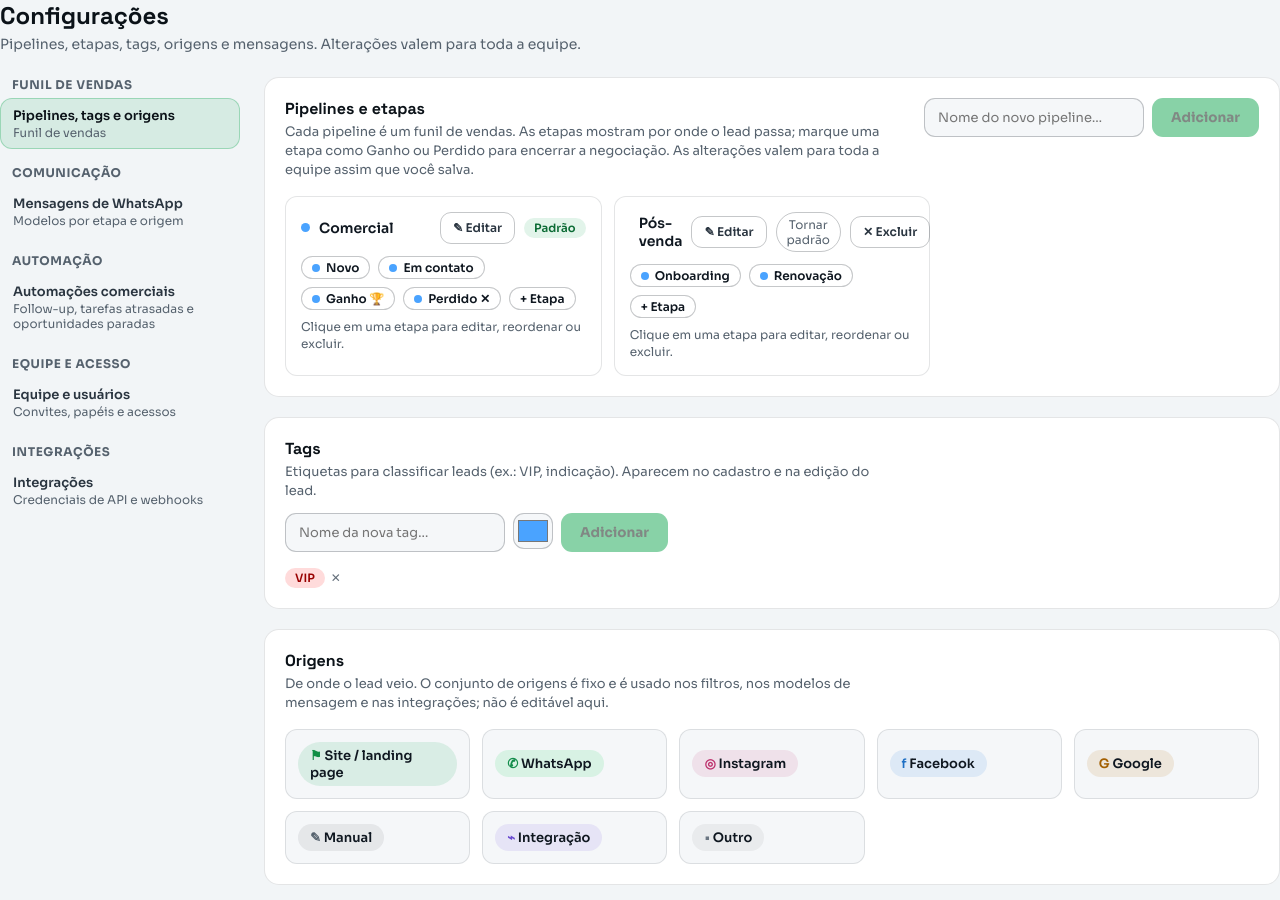
Test: F-25 etapas › CFG-03: excluir etapa: a confirmação informa que só etapa SEM leads pode ser excluída E que os templates da etapa também serão excluídos
Expected: the text "Comercial" is shown, x1=319 y1=218 x2=394 y2=236
Click the button "Em contato" at (432, 267), box x1=378 y1=256 x2=485 y2=278
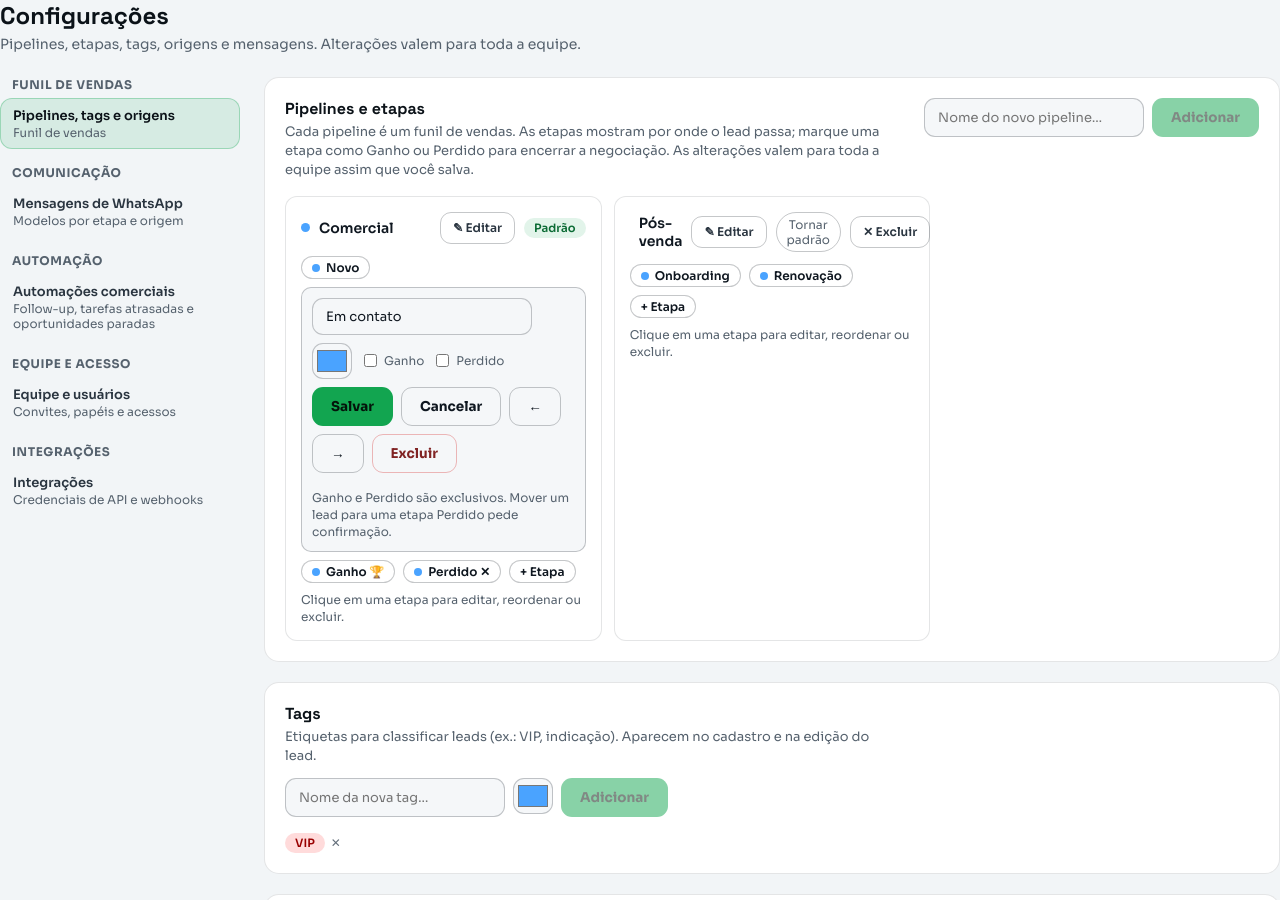
Click the button "Excluir" at (414, 453), box x1=372 y1=434 x2=457 y2=472
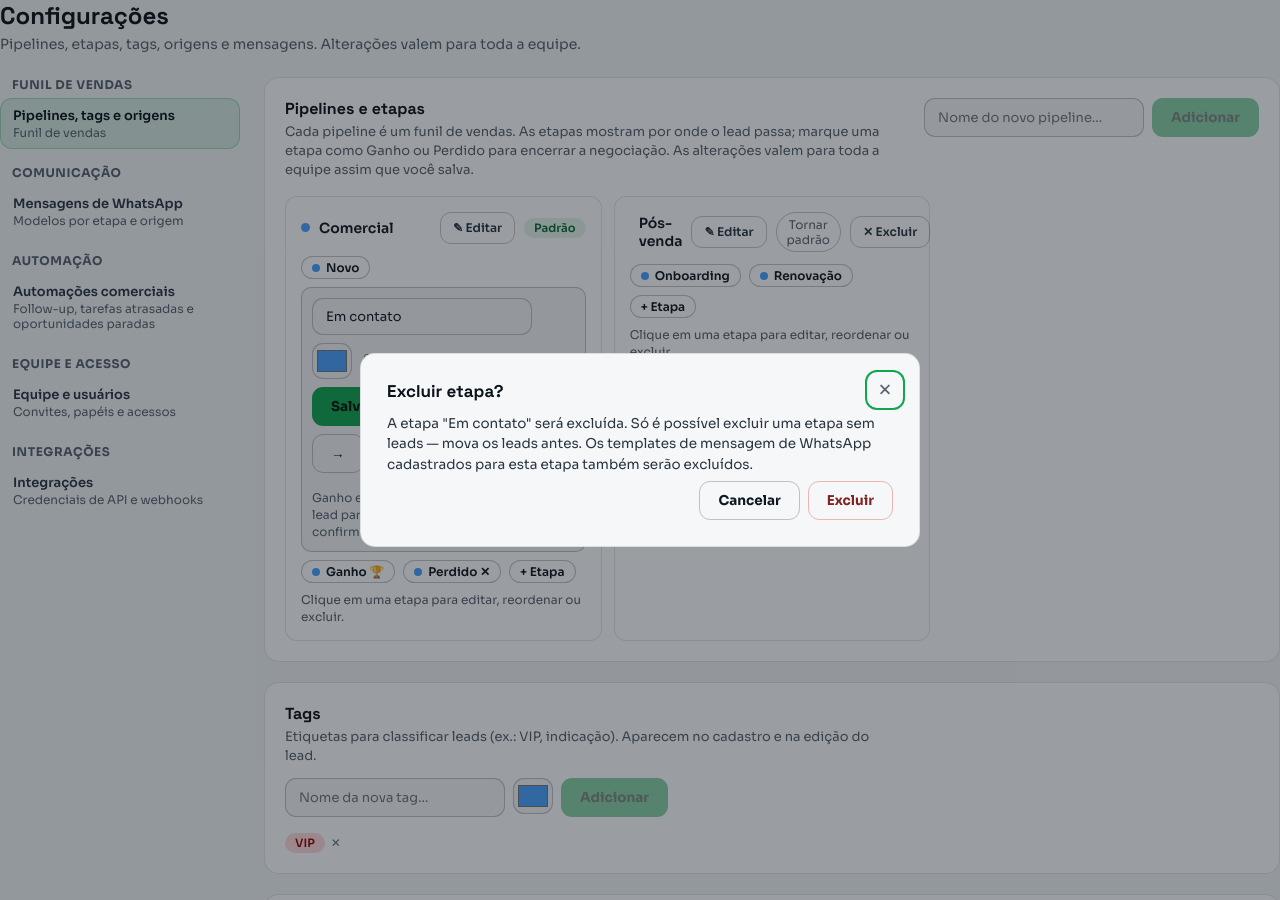
Now the text "templates de mensagem de WhatsApp cadastrados para esta etapa também serão excluídos" is shown, box x1=387 y1=415 x2=875 y2=473
Click the button "Excluir" at (850, 500), box x1=808 y1=481 x2=893 y2=520
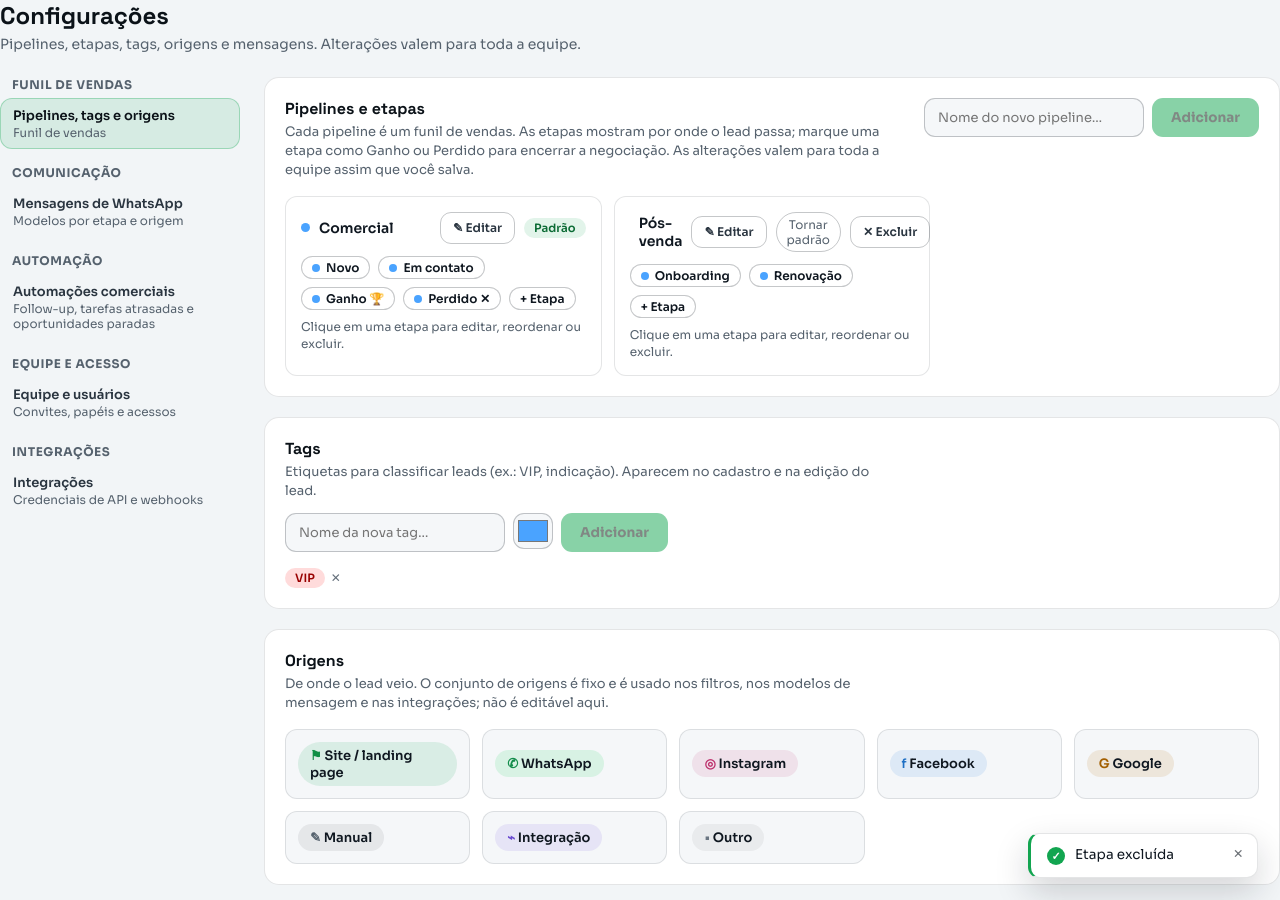
Now the text "Etapa excluída" is shown, box x1=1075 y1=846 x2=1174 y2=863
